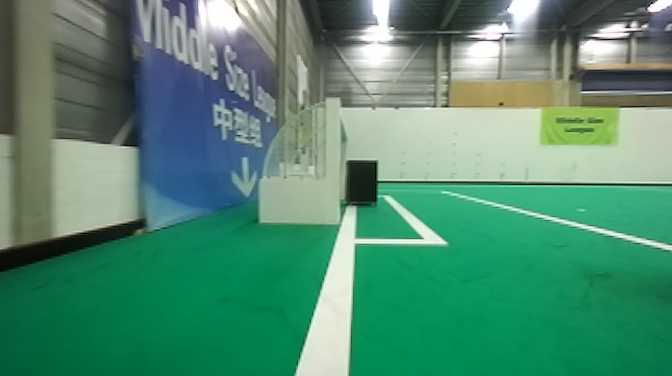goalpost: (318, 94, 343, 226)
